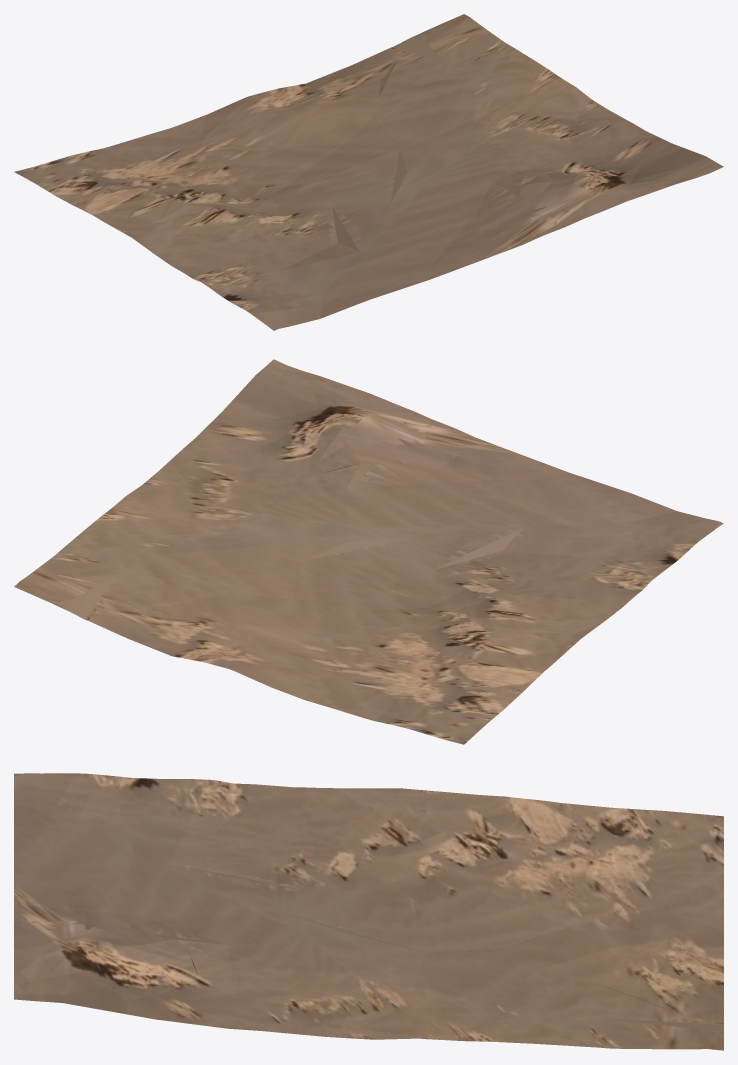
The picture shows the model from 3 angles, top to bottom: view 1: azimuth 30°, elevation 25°; view 2: azimuth 150°, elevation 25°; view 3: azimuth 270°, elevation 25°; orthographic projection. The views are drawn at different scales.
Bounding box in the file's own units: 2.09 × 0.3793 × 2.09.
Materials: 3 (3 with a texture image).
